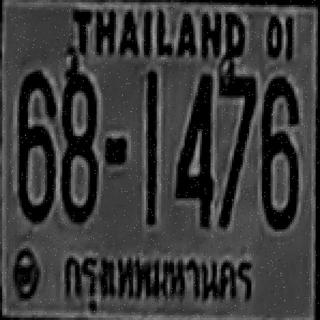N00: (64, 142, 98, 221), (64, 70, 98, 147)
N01: (145, 70, 156, 170), (145, 69, 156, 167)
N07: (220, 73, 254, 154)
P04: (62, 250, 260, 316)
